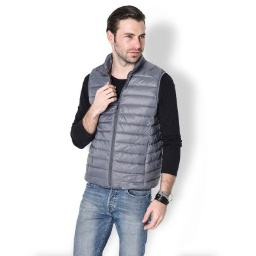face: (105, 3, 147, 64)
